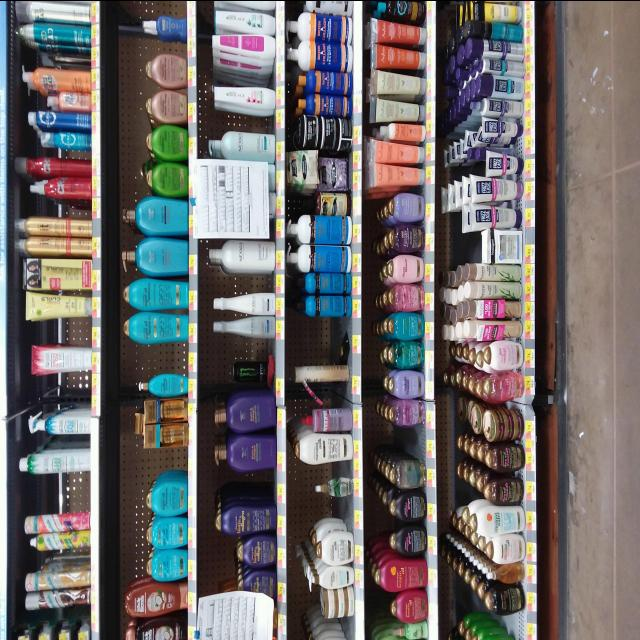empty_space: (226, 471, 273, 499), (300, 322, 334, 358), (61, 471, 91, 509), (149, 448, 186, 474), (149, 345, 185, 371), (51, 321, 89, 343), (57, 371, 87, 395), (320, 497, 351, 519), (452, 239, 478, 265), (496, 615, 524, 633)
